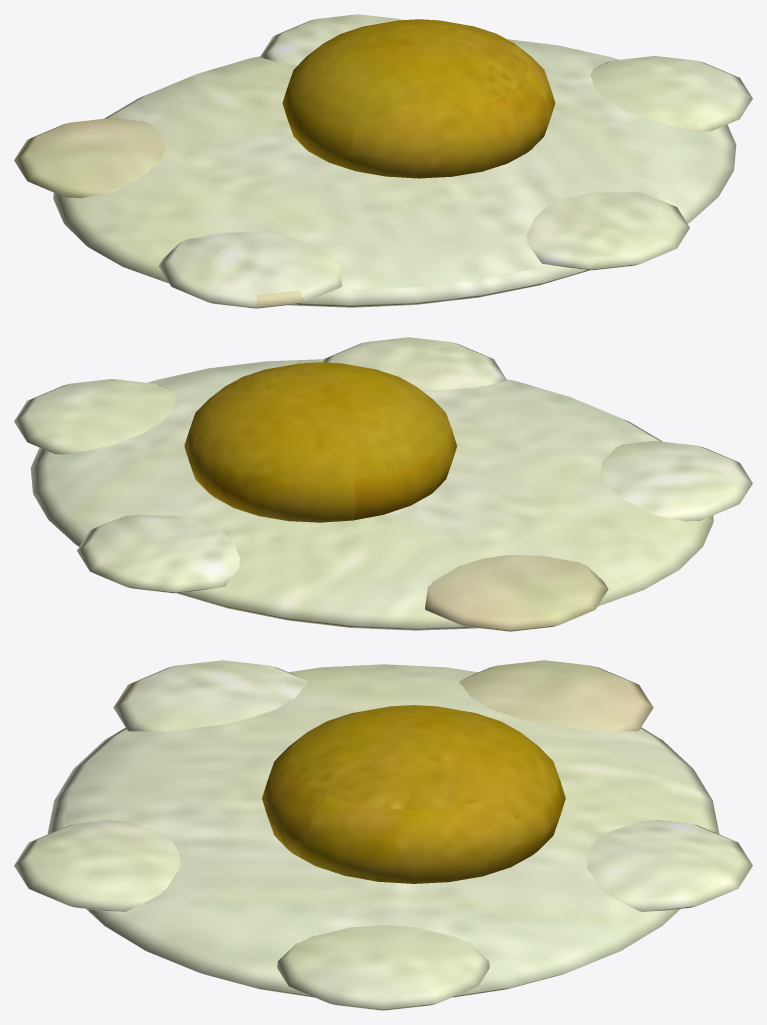
File: Food_telur_ceplok.fbx
The picture shows the model from 3 angles, top to bottom: view 1: azimuth 30°, elevation 25°; view 2: azimuth 150°, elevation 25°; view 3: azimuth 270°, elevation 25°; orthographic projection. The views are drawn at different scales.
Visible parts, largest first — view 1: Food_telur_ceplok; view 2: Food_telur_ceplok; view 3: Food_telur_ceplok.
Part boxes in pixels (x1,y1,x2,y2): Food_telur_ceplok: (14,14,752,308); Food_telur_ceplok: (14,337,752,631); Food_telur_ceplok: (14,660,752,1010).
Size of the model in its own units: 0.138 by 0.0284 by 0.1216.
